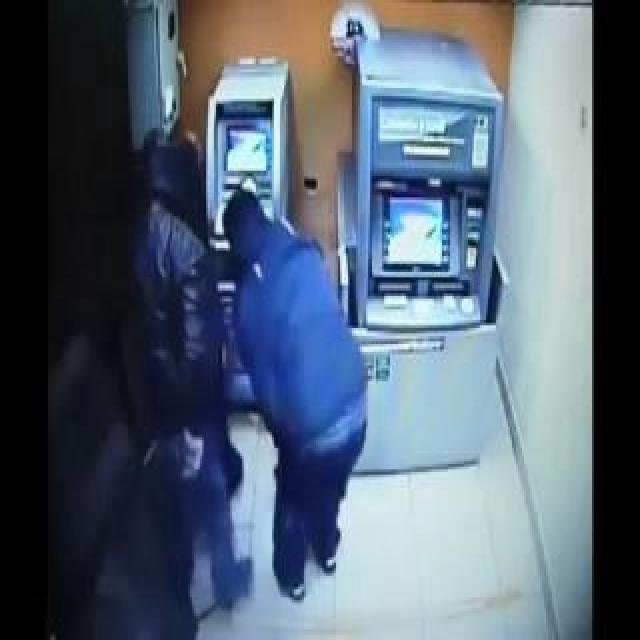thief: (134, 124, 292, 320)
